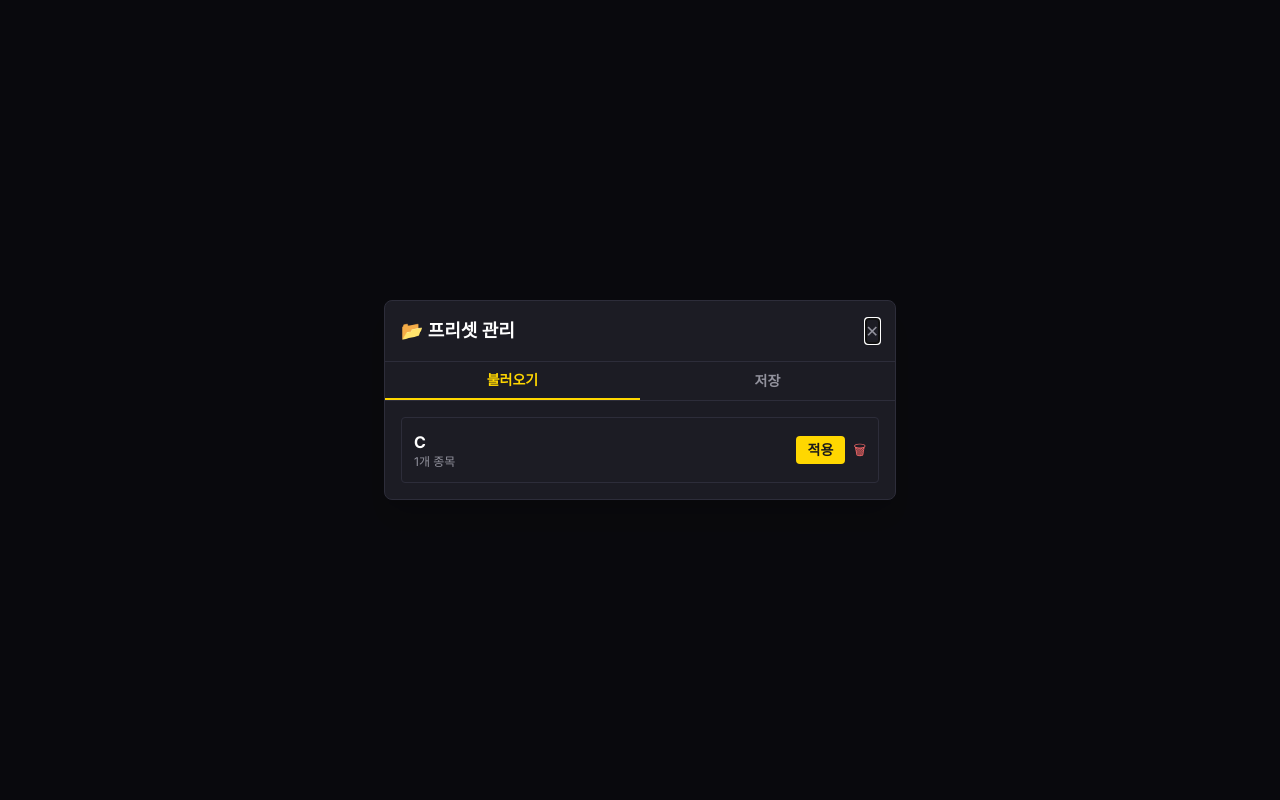
Test: PresetManagerModal — apply flow + dry-run › [Error] dry-run: coded item with a name collision on a differently-coded asset → create, not update
The image size is (1280, 800).
Click the button "적용" at (820, 450), box [796,436,845,464]
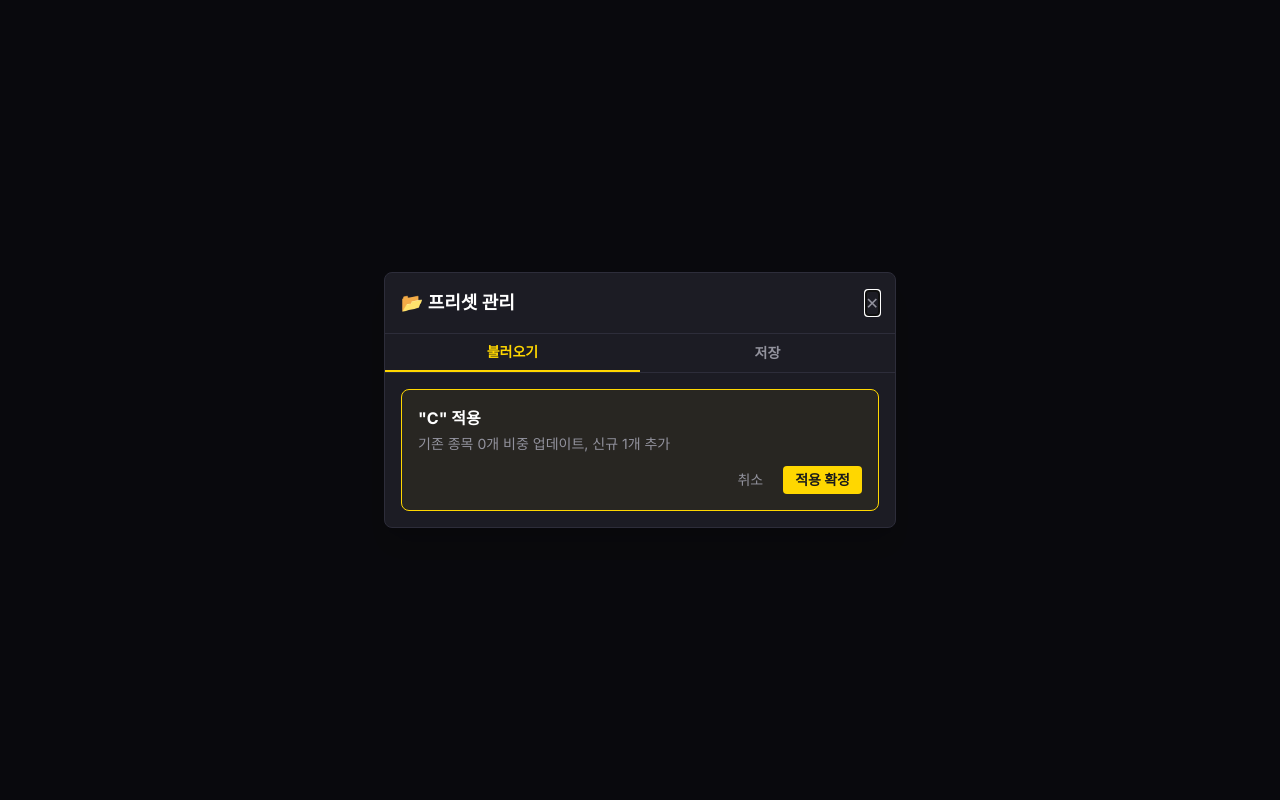
Result: the text "기존 종목 0개 비중 업데이트, 신규 1개 추가" is shown at [418,435,670,452]
